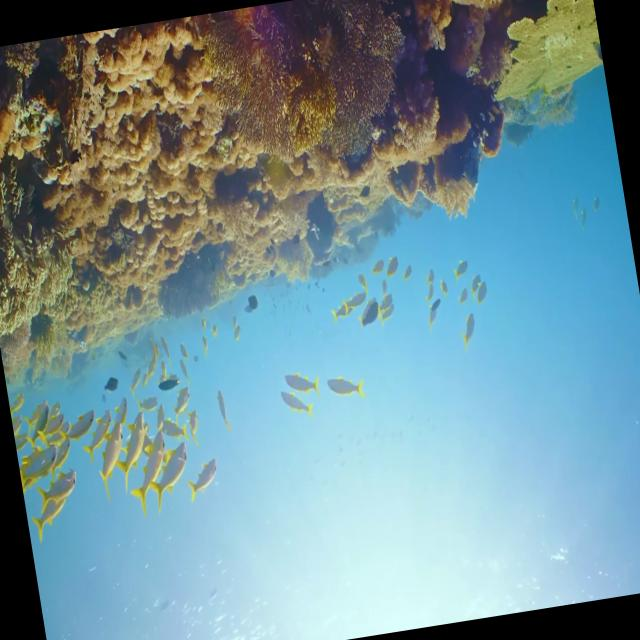fish: (110, 406, 158, 493), (126, 436, 175, 510), (140, 442, 195, 506), (91, 414, 136, 486), (28, 464, 86, 516), (19, 435, 69, 491), (82, 406, 124, 466), (54, 403, 102, 452), (184, 452, 226, 503), (22, 402, 59, 456), (29, 496, 68, 546), (321, 366, 368, 407), (278, 386, 320, 428), (356, 288, 389, 338), (208, 383, 238, 435), (282, 363, 322, 400), (167, 382, 200, 422), (152, 366, 186, 400), (456, 312, 484, 352), (238, 284, 264, 327), (352, 262, 376, 304), (426, 290, 453, 326), (366, 248, 393, 284), (450, 252, 477, 284), (473, 274, 495, 312), (184, 406, 206, 440), (103, 370, 127, 396), (398, 258, 420, 286), (386, 250, 404, 282), (421, 263, 441, 291)
